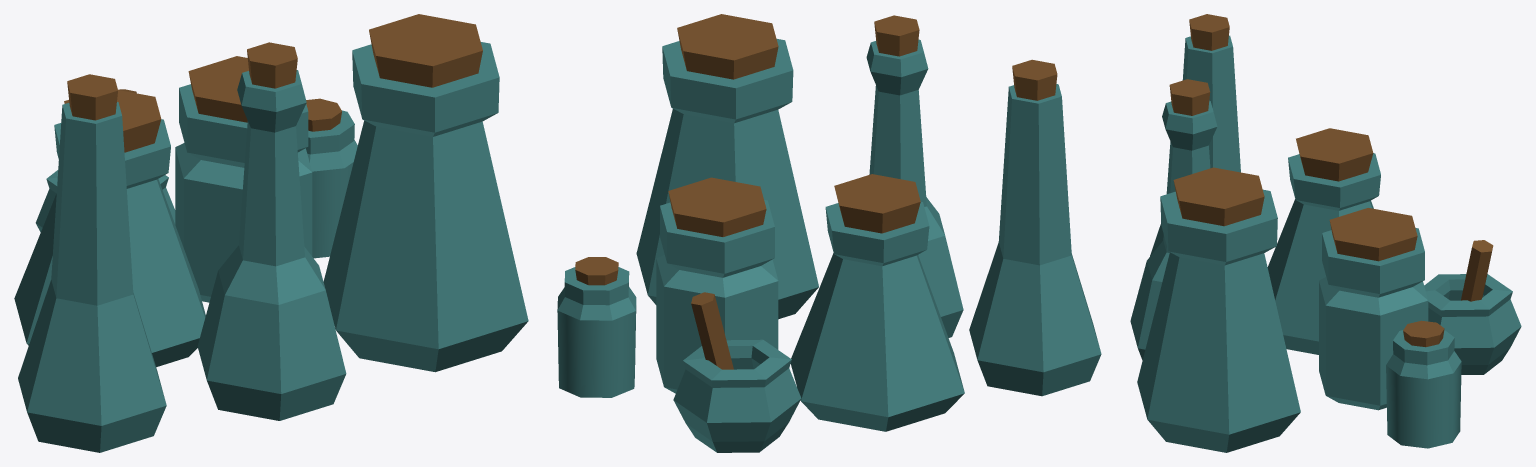
The model's file is Potions.fbx.
3 views of the same model, side by side, from view 1: azimuth 30°, elevation 25°; view 2: azimuth 150°, elevation 25°; view 3: azimuth 270°, elevation 25° (orthographic). The views are drawn at different scales.
Parts seen in each view (by area): view 1: Object058; view 2: Object058; view 3: Object058.
Boxes of the visible parts, x1=… form: Object058: x1=14, y1=14, x2=528, y2=452; Object058: x1=557, y1=14, x2=1101, y2=452; Object058: x1=1130, y1=14, x2=1521, y2=452.
Size of the model in its own units: 81.57 by 52.31 by 68.52.
